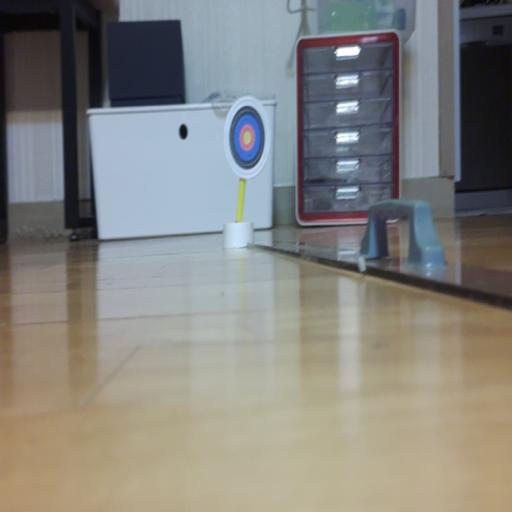target: (224, 96, 270, 179)
